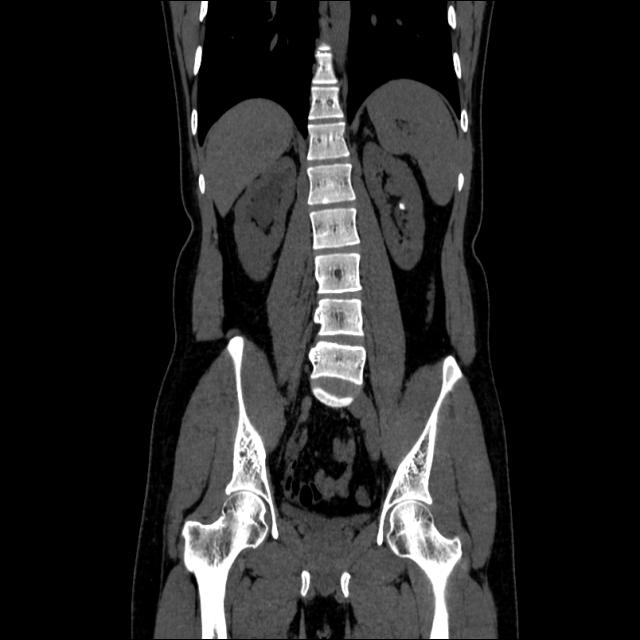kidney: (363, 142, 424, 267), (238, 161, 296, 276)
stone: (399, 202, 405, 211)
